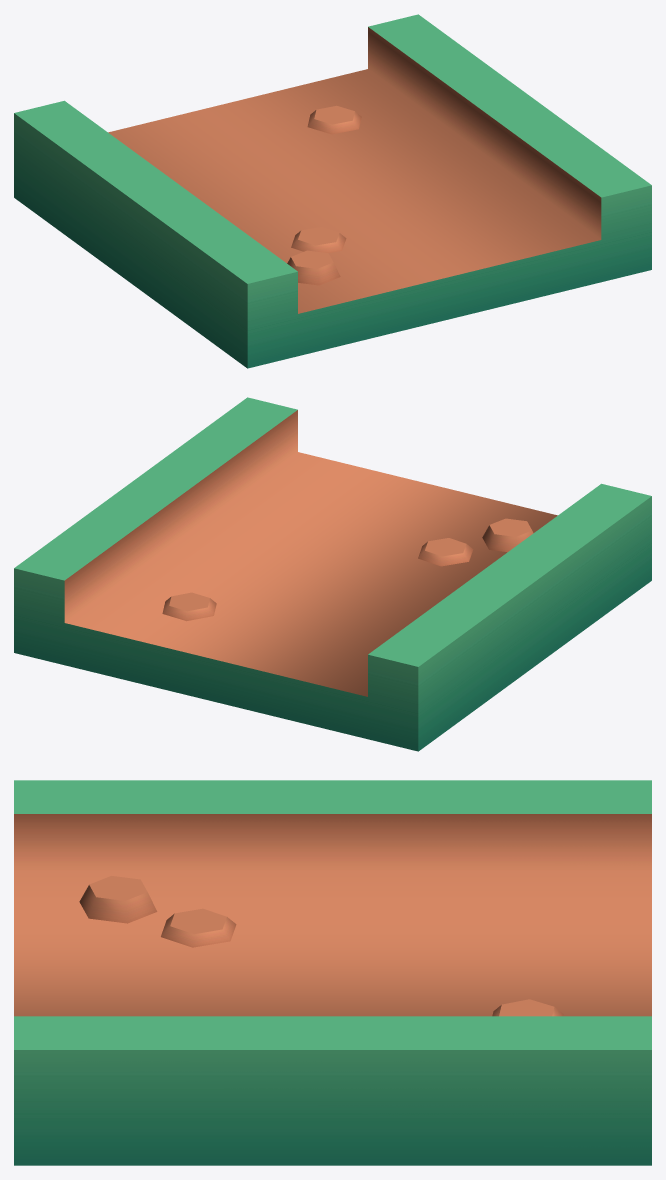
File: kenney-tower-defense-tile-straight.glb
3 renders of one model, top to bottom at view 1: azimuth 30°, elevation 25°; view 2: azimuth 150°, elevation 25°; view 3: azimuth 270°, elevation 25°, orthographic. The views are drawn at different scales.
Visible parts, largest first — view 1: tile-straight; view 2: tile-straight; view 3: tile-straight.
Boxes of the visible parts, x1,y1,x2,y2 form: tile-straight: (14,14,651,368); tile-straight: (14,397,651,751); tile-straight: (14,780,651,1165).
Bounding box in the file's own units: 1 × 0.2 × 1.
Materials: 1 (1 with a texture image).
